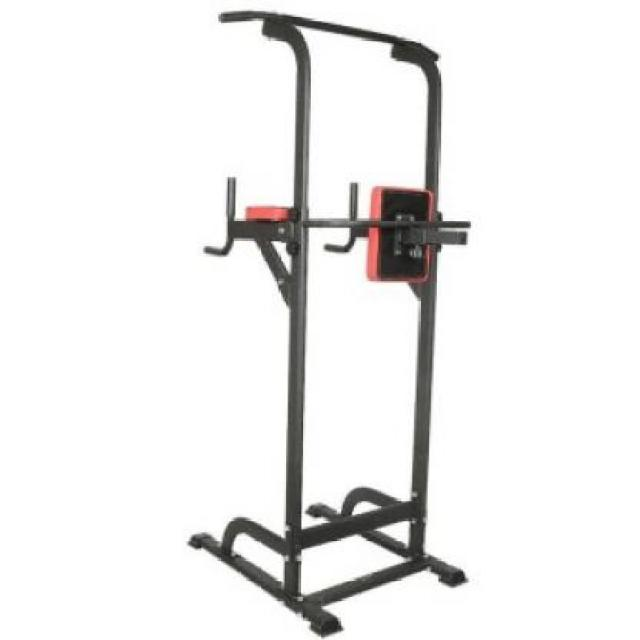chinning dipping: (186, 11, 471, 637)
